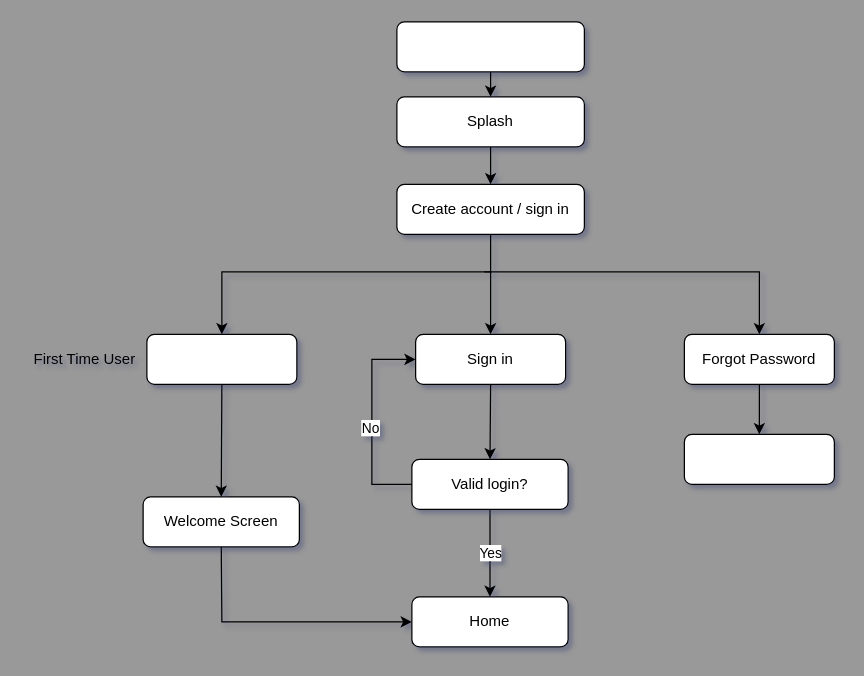
Some shapes in this 864 by 676 pixel diagram are drawn without their labels. Each missing label, with the centre of its shape:
Create Account: point 221,358
Recover Password: point 758,458
Start: point 490,46
